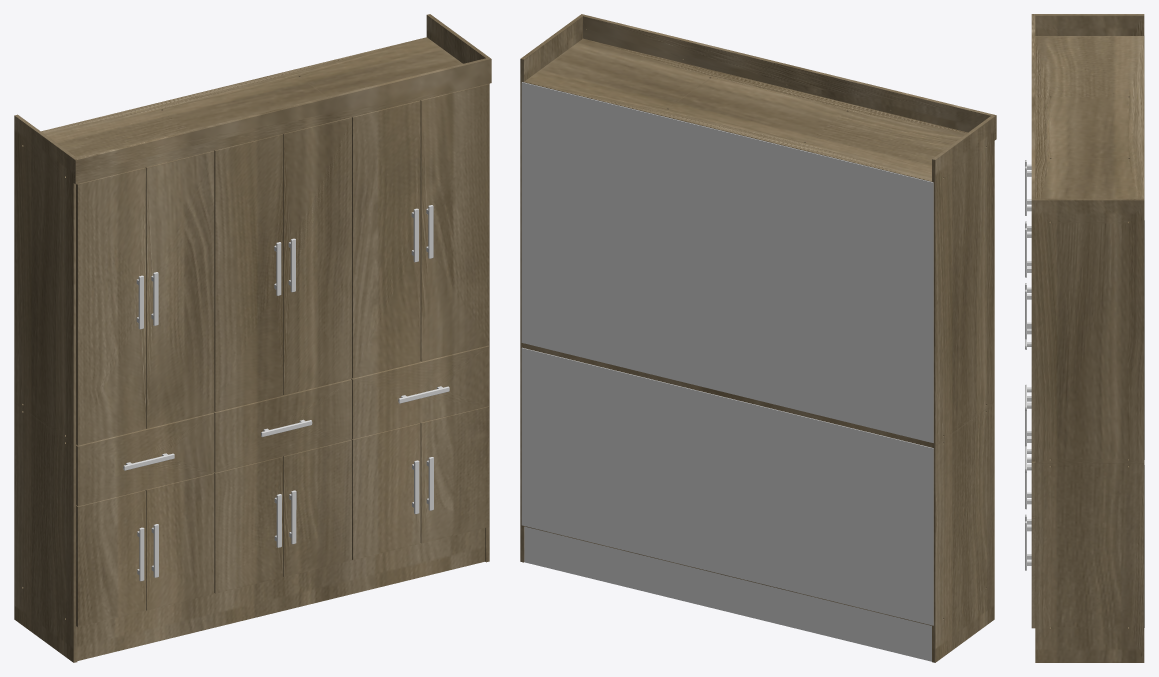
3 renders of one model, left to right at view 1: azimuth 30°, elevation 25°; view 2: azimuth 150°, elevation 25°; view 3: azimuth 270°, elevation 25°, orthographic. The views are drawn at different scales.
Visible parts, largest first — view 1: A032012-COSTADOSAB; view 2: A032012-COSTADOSAB; view 3: A032012-COSTADOSAB.
Part boxes in pixels (x1=…): A032012-COSTADOSAB: x1=14, y1=14, x2=491, y2=662; A032012-COSTADOSAB: x1=520, y1=14, x2=996, y2=662; A032012-COSTADOSAB: x1=1025, y1=14, x2=1144, y2=662.
Bounding box in the file's own units: 18 × 20.85 × 4.89.
Materials: 1 (1 with a texture image).
